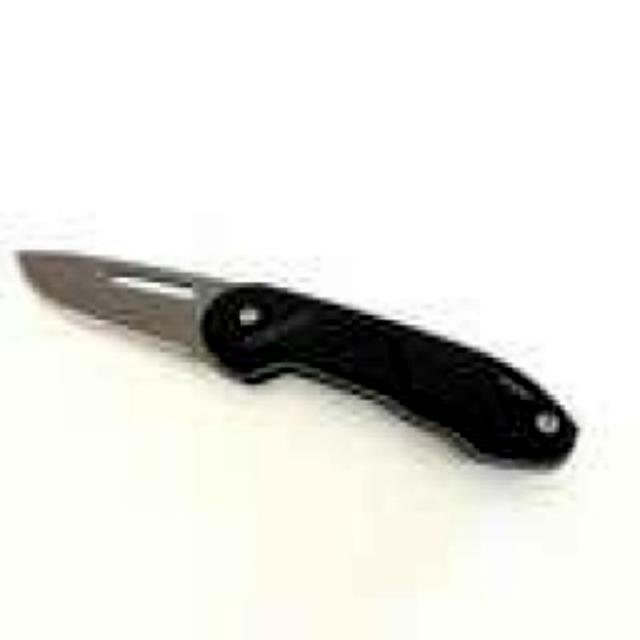pocket-knife: (17, 250, 576, 486)
